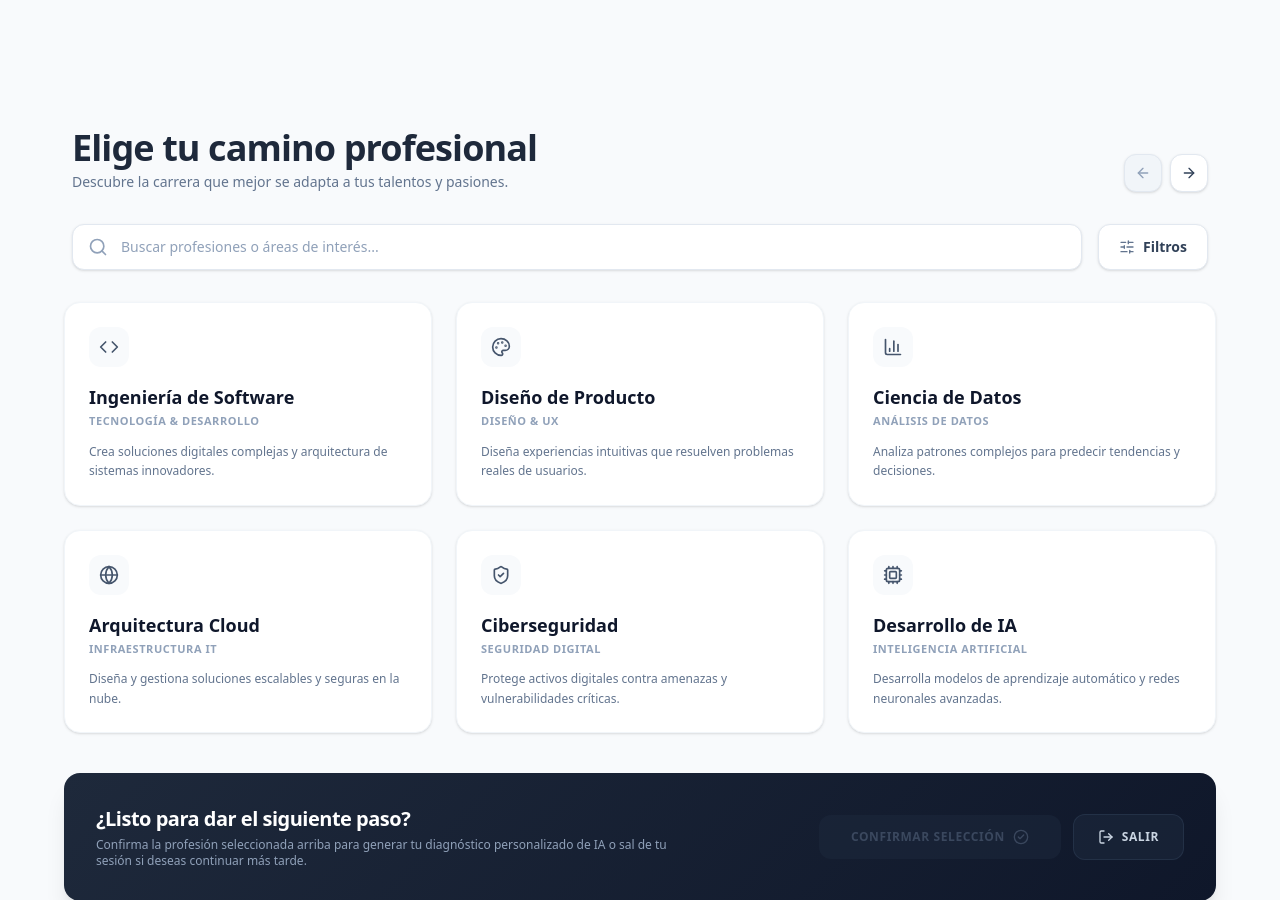
Test case: Dashboard › selecciona una profesión al hacer click y habilita el botón de confirmar
# Cada tarjeta tiene onClick en el div padre con cursor-pointer
Click the text "Ingeniería de Software".
click(248, 404)  # box x1=64 y1=302 x2=432 y2=506
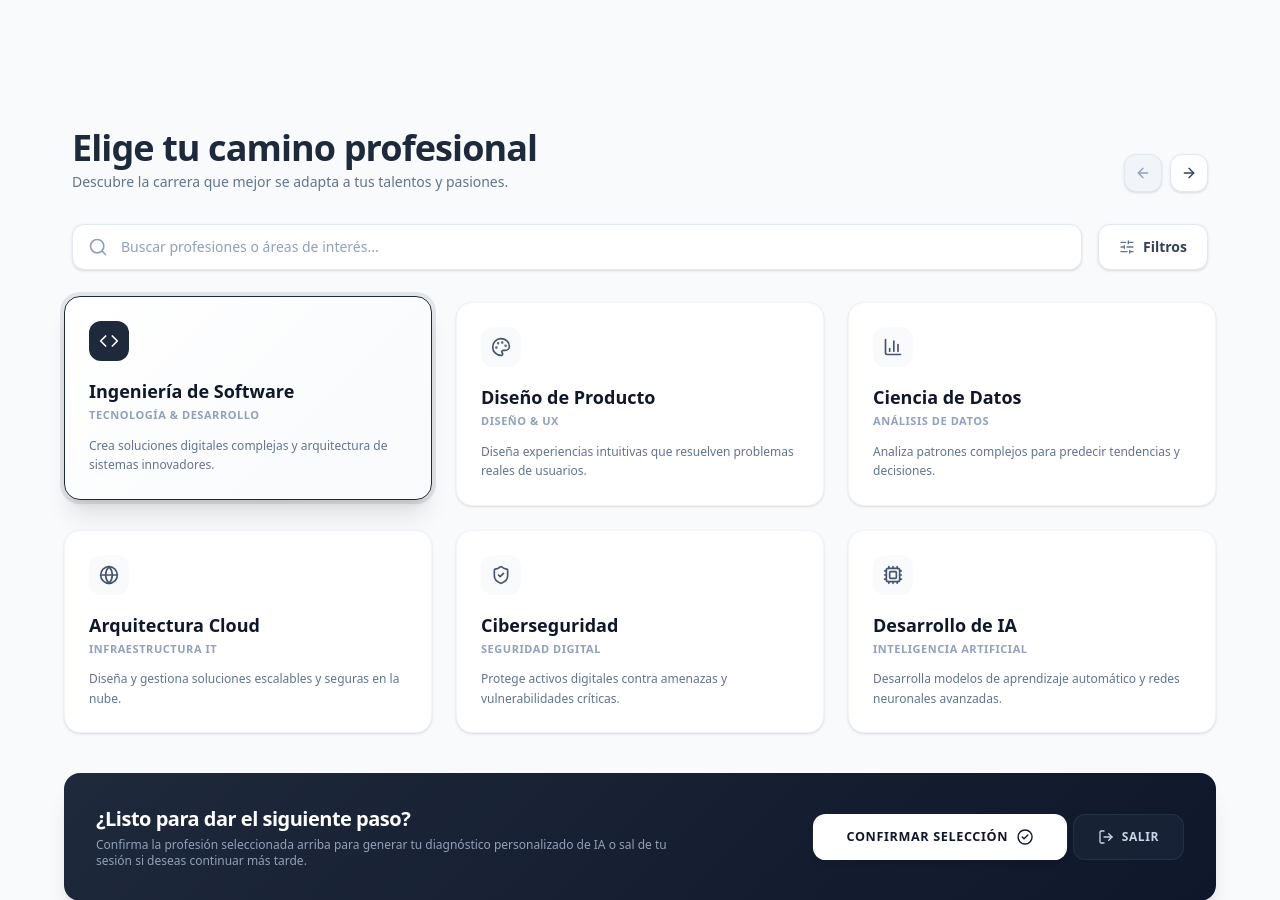
Now the button "Confirmar Selección" is enabled, box x1=813 y1=814 x2=1067 y2=860
